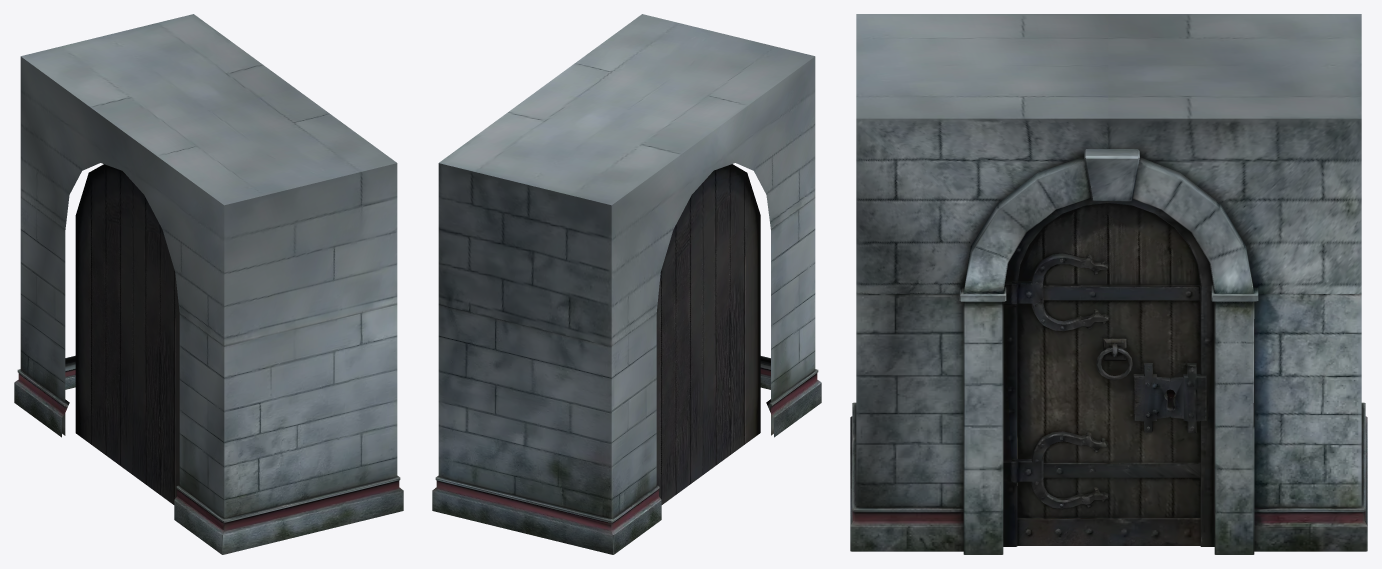
File: vault_door.glb
3 views of the same model, side by side, from view 1: azimuth 30°, elevation 25°; view 2: azimuth 150°, elevation 25°; view 3: azimuth 270°, elevation 25° (orthographic). The views are drawn at different scales.
Visible parts, largest first — view 1: model; view 2: model; view 3: model.
Boxes of the visible parts, box(x1,y1,x2,y2) form: model: box(14, 14, 403, 554); model: box(432, 14, 821, 554); model: box(850, 14, 1367, 554).
Size of the model in its own units: 0.5736 by 1 by 1.09.
Materials: 1 (1 with a texture image).
